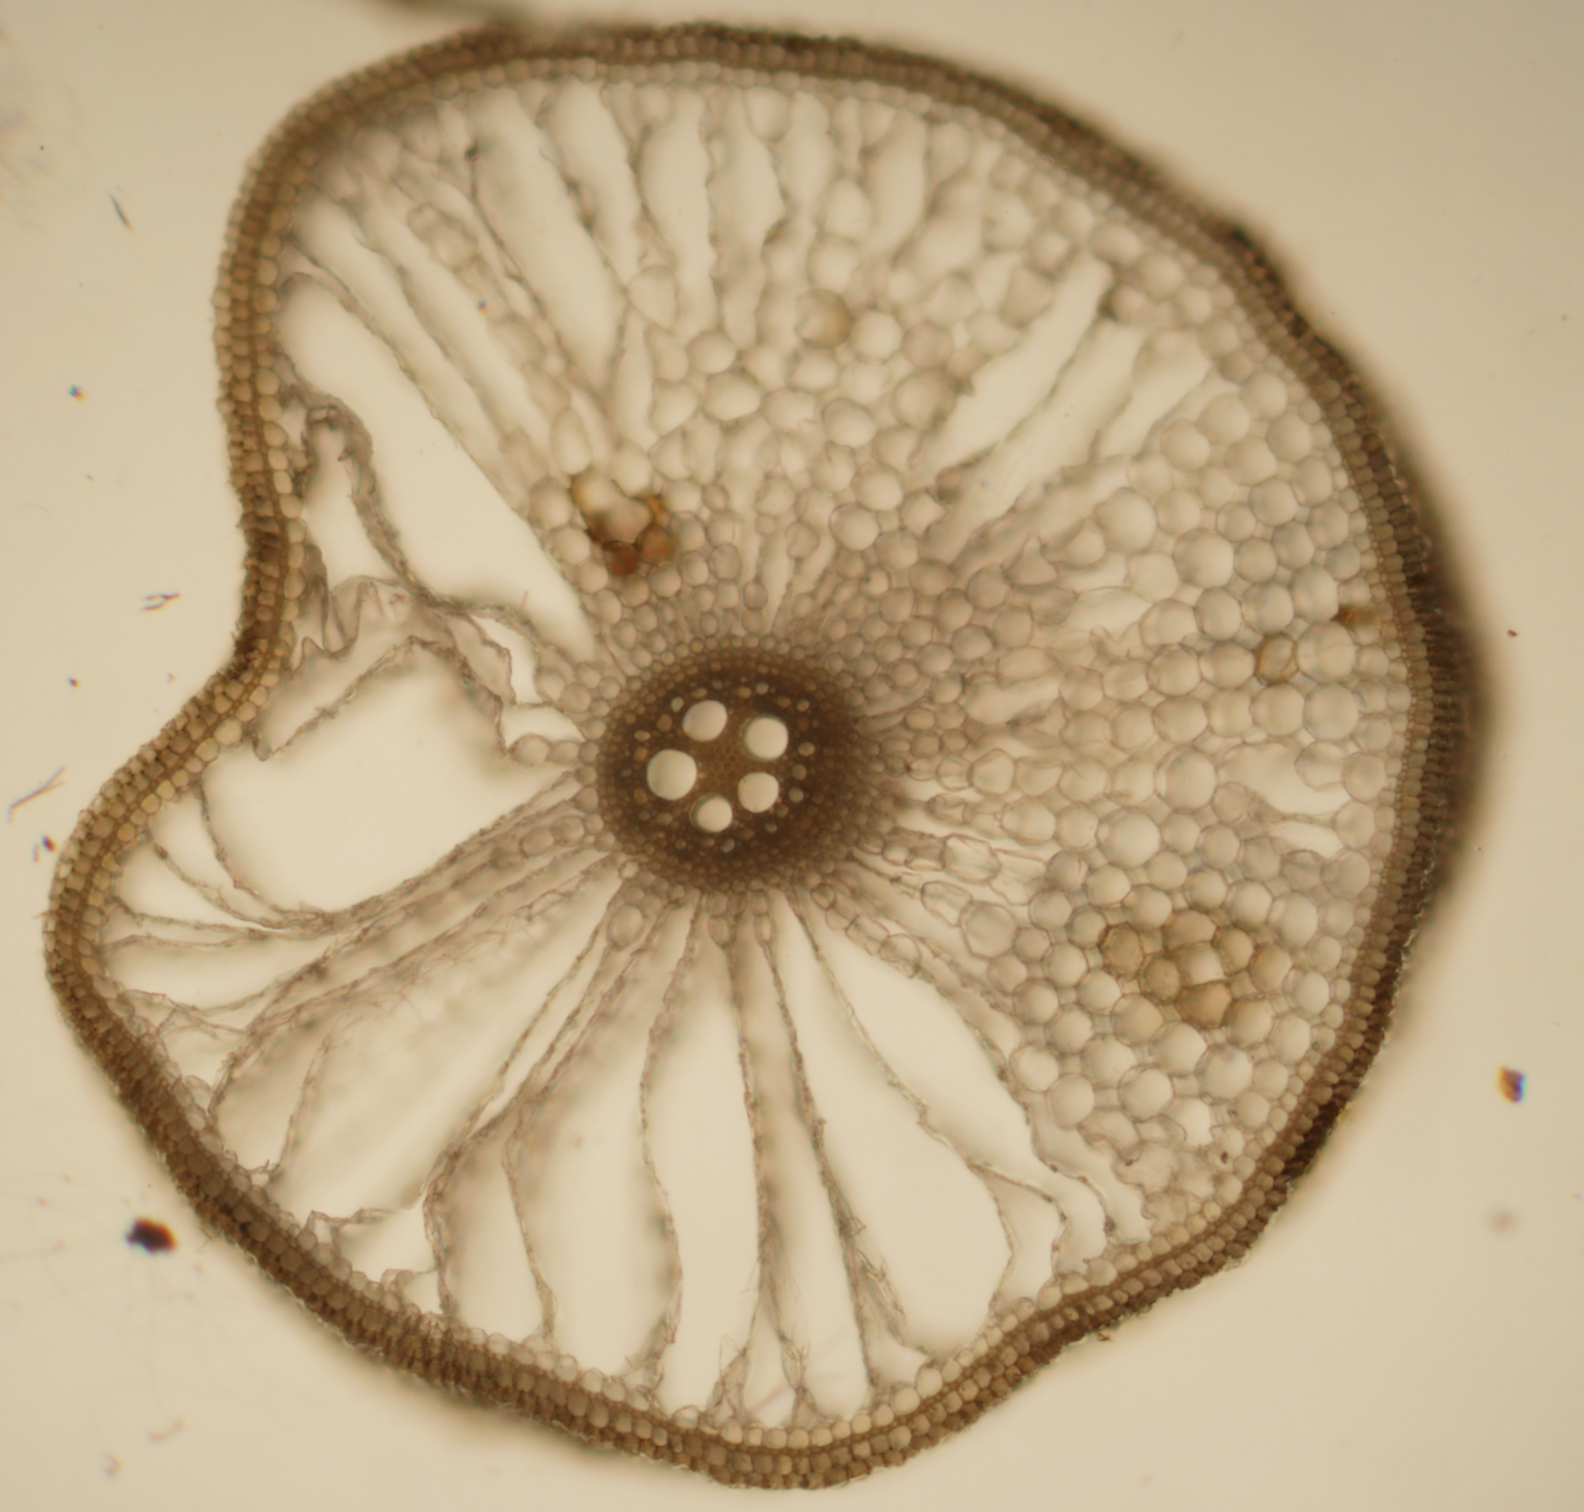lm: (646, 748, 697, 801), (742, 716, 788, 760), (682, 700, 727, 741), (737, 771, 779, 812), (694, 793, 733, 832)
